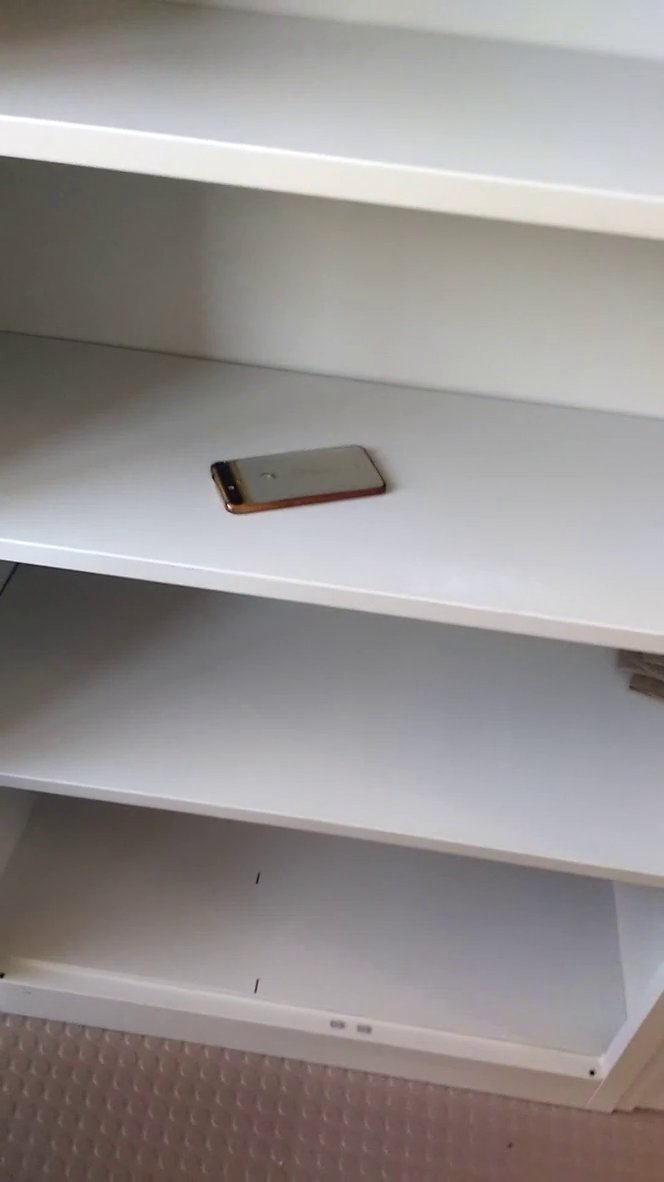phone: (198, 431, 399, 531)
